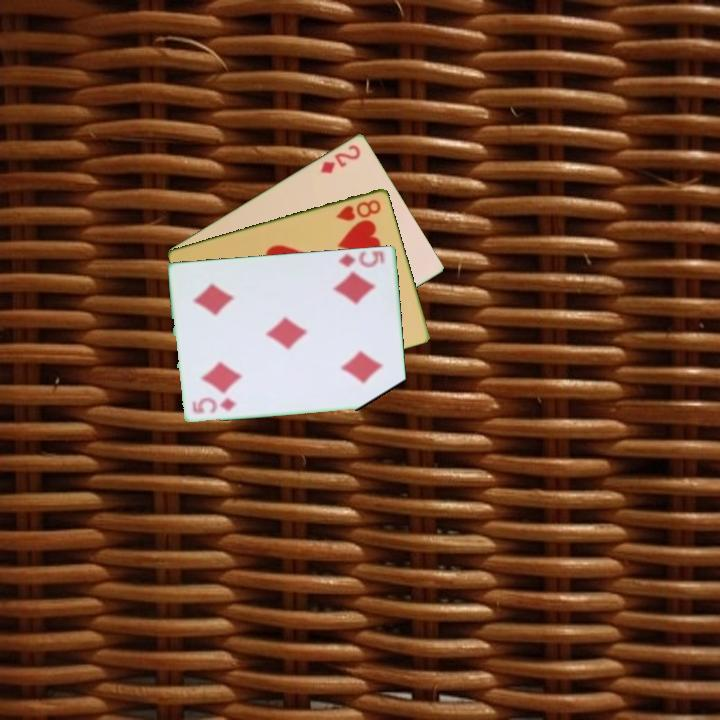2d: (317, 141, 364, 176)
5d: (335, 247, 387, 270), (189, 394, 240, 416)
8h: (333, 196, 384, 224)
